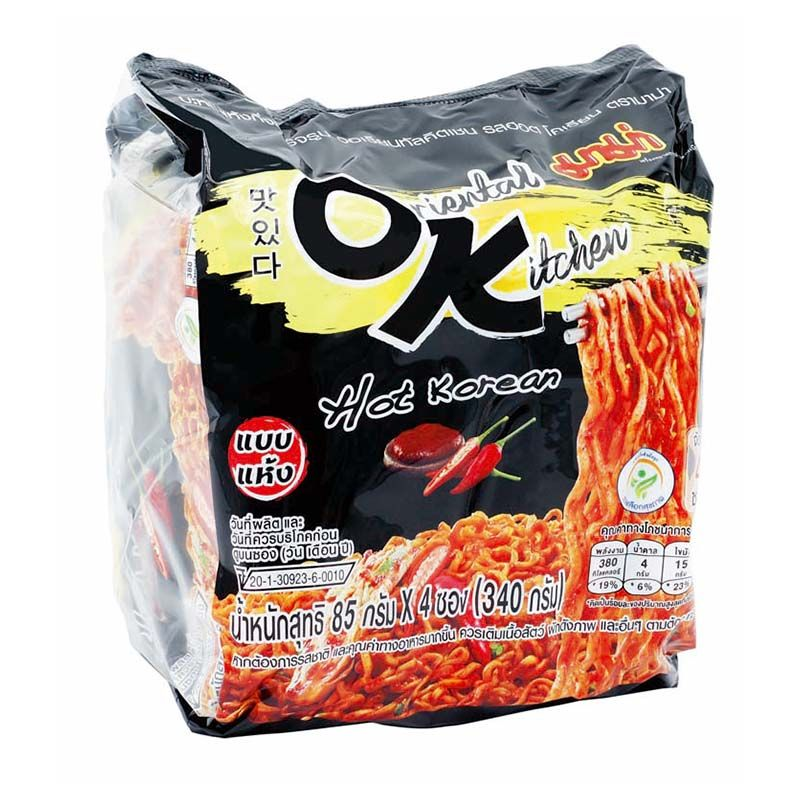Snack: (87, 37, 718, 746)
